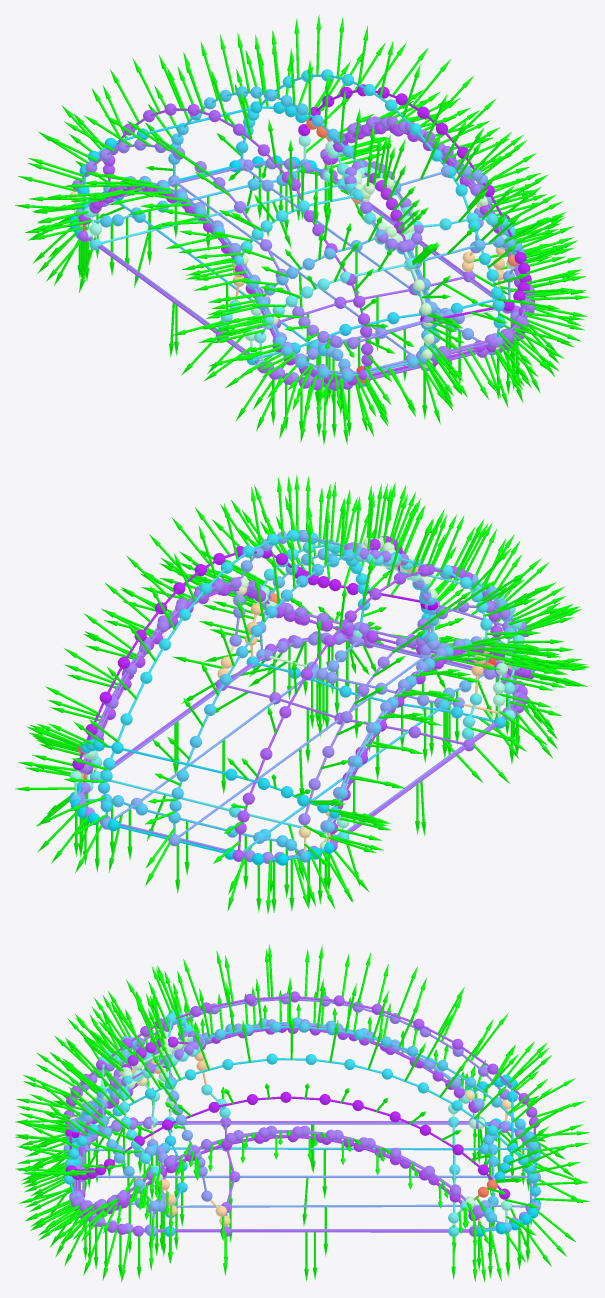
The model's file is flowrep_mouse.gltf.
3 renders of one model, top to bottom at view 1: azimuth 30°, elevation 25°; view 2: azimuth 150°, elevation 25°; view 3: azimuth 270°, elevation 25°, orthographic. The views are drawn at different scales.
Bounding box in the file's own units: 0.6634 × 0.4951 × 1.03.
